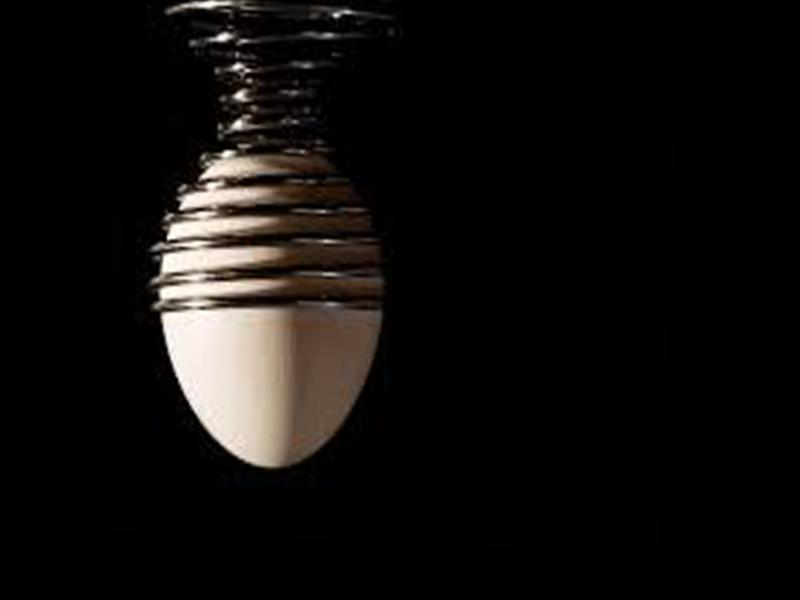Eggs: (150, 146, 388, 474)
